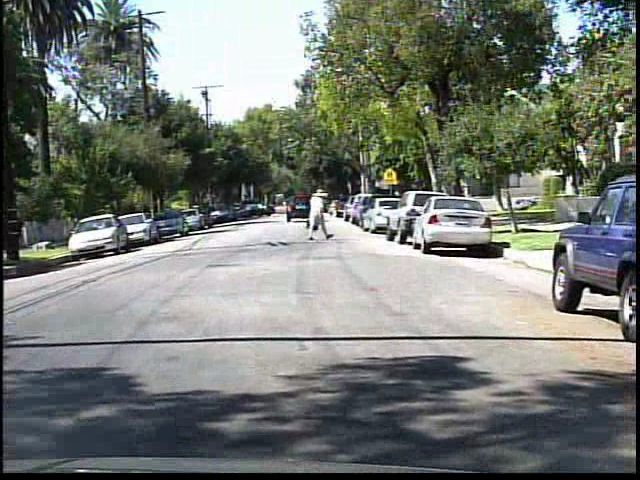person: (302, 186, 334, 243)
